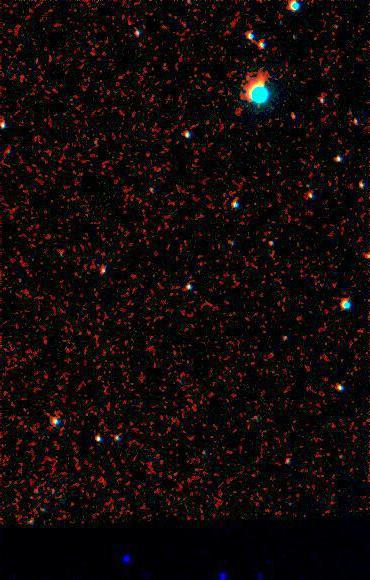star: (247, 64, 277, 94)
